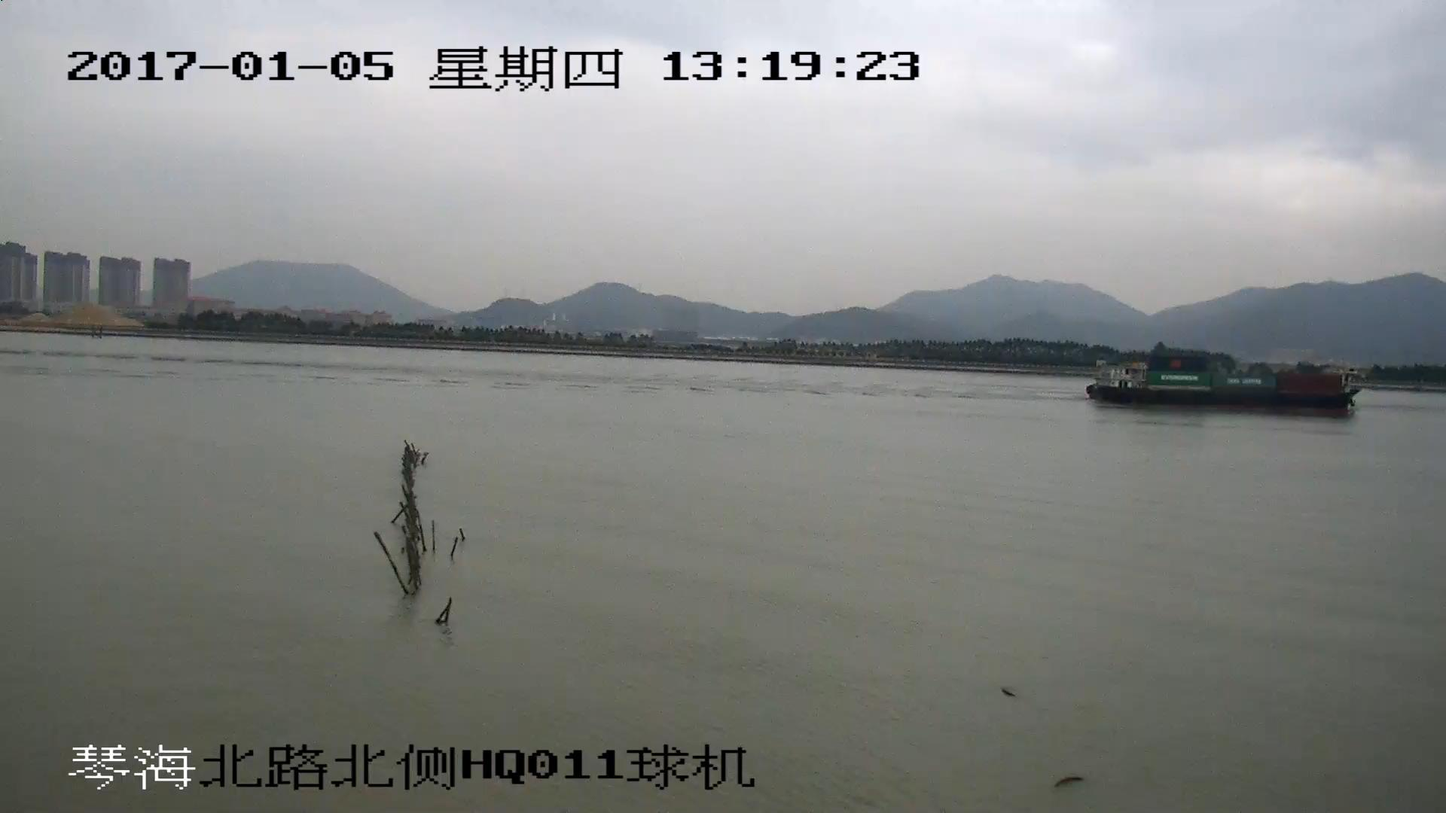container ship: (1088, 355, 1351, 410)
